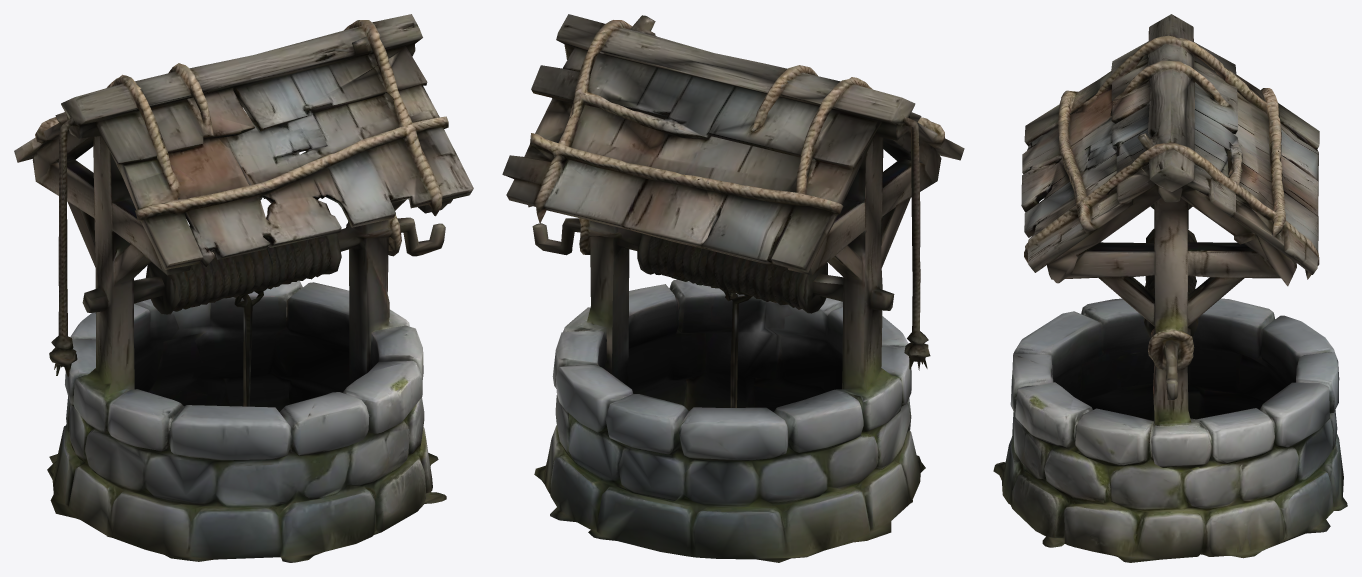
Rendered from OldWell.opt.glb.
3 renders of one model, left to right at view 1: azimuth 30°, elevation 25°; view 2: azimuth 150°, elevation 25°; view 3: azimuth 270°, elevation 25°, orthographic. The views are drawn at different scales.
Parts seen in each view (by area): view 1: node_0; view 2: node_0; view 3: node_0.
Part boxes in pixels (x1,y1,x2,y2): node_0: (14,14,473,562); node_0: (502,14,964,562); node_0: (993,14,1347,562).
Size of the model in its own units: 0.8693 by 0.9054 by 0.7278.
Materials: 1 (1 with a texture image).
